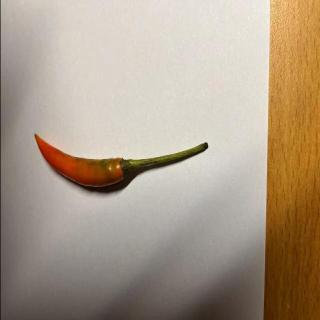Cabai Merah: (35, 134, 209, 188)
